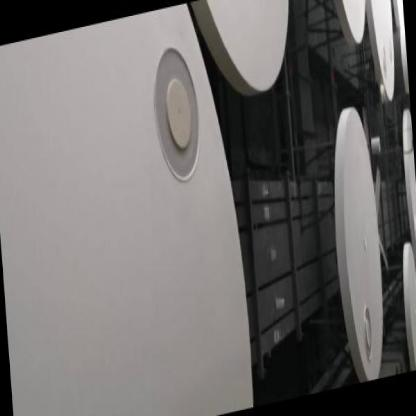light_off: (139, 12, 208, 214)
